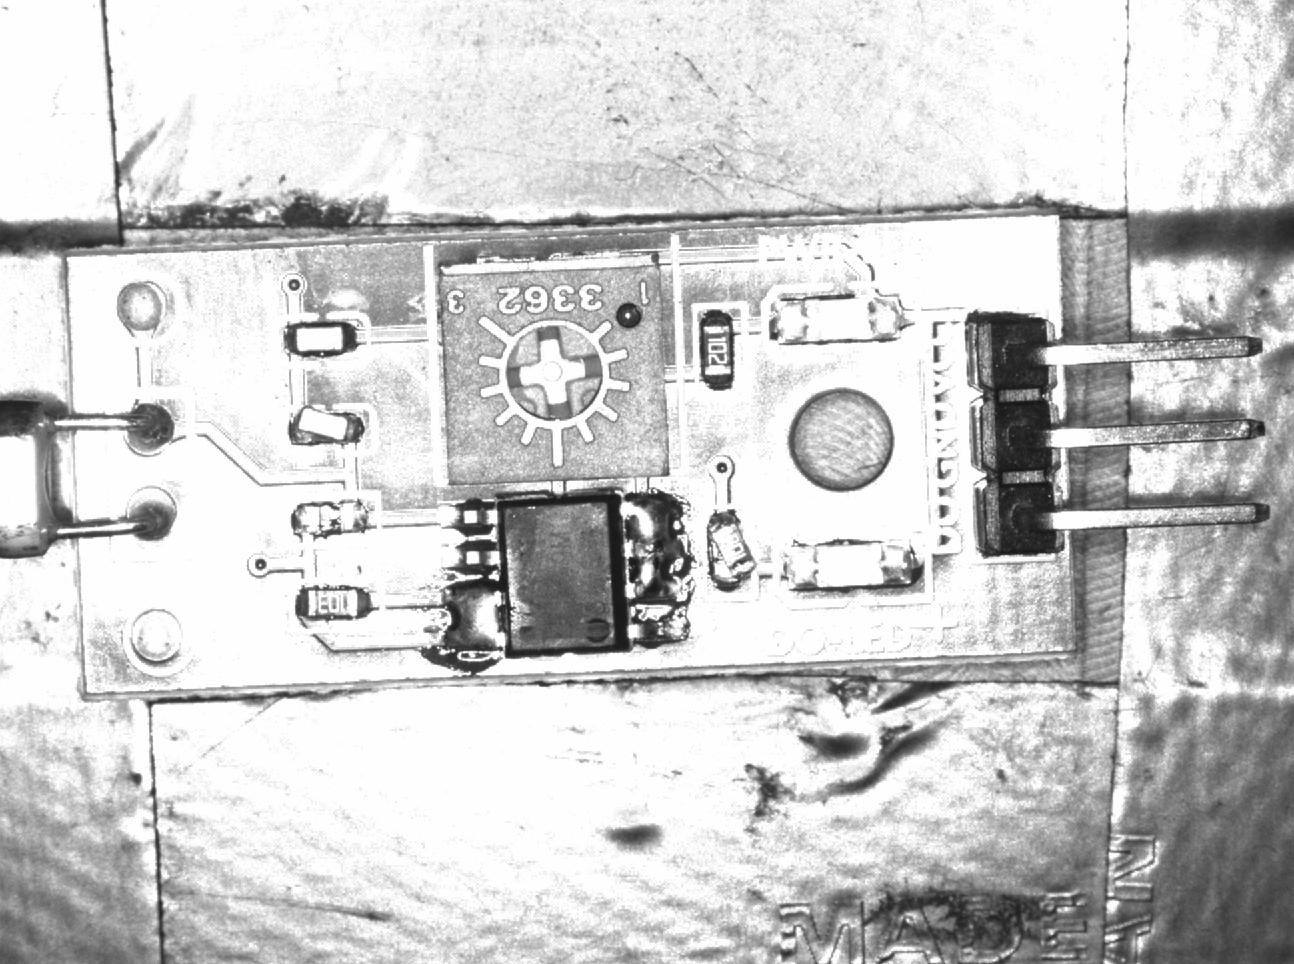bridge: (624, 486, 693, 611), (436, 582, 507, 659)
lifted: (705, 508, 755, 597), (284, 405, 379, 451)
miss: (284, 492, 380, 541)
ok: (696, 304, 747, 395), (286, 580, 384, 626), (278, 314, 370, 360)
